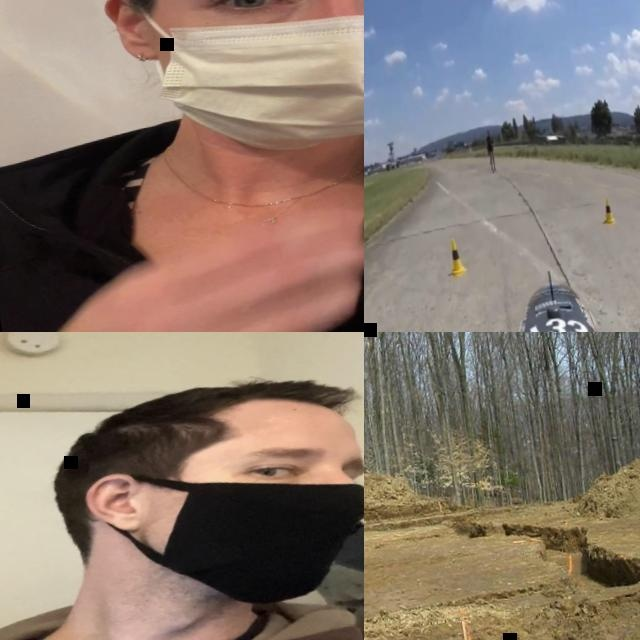Mask: (111, 449, 364, 624), (153, 1, 364, 163)
NO-Hardhat: (58, 365, 363, 463)
NO-Safety Vest: (0, 120, 364, 332), (485, 137, 494, 153)
Person: (0, 0, 364, 332), (0, 348, 364, 640), (484, 130, 497, 173)
Safety Cone: (443, 238, 467, 280), (600, 199, 615, 232)
vehicle: (391, 245, 640, 332)
